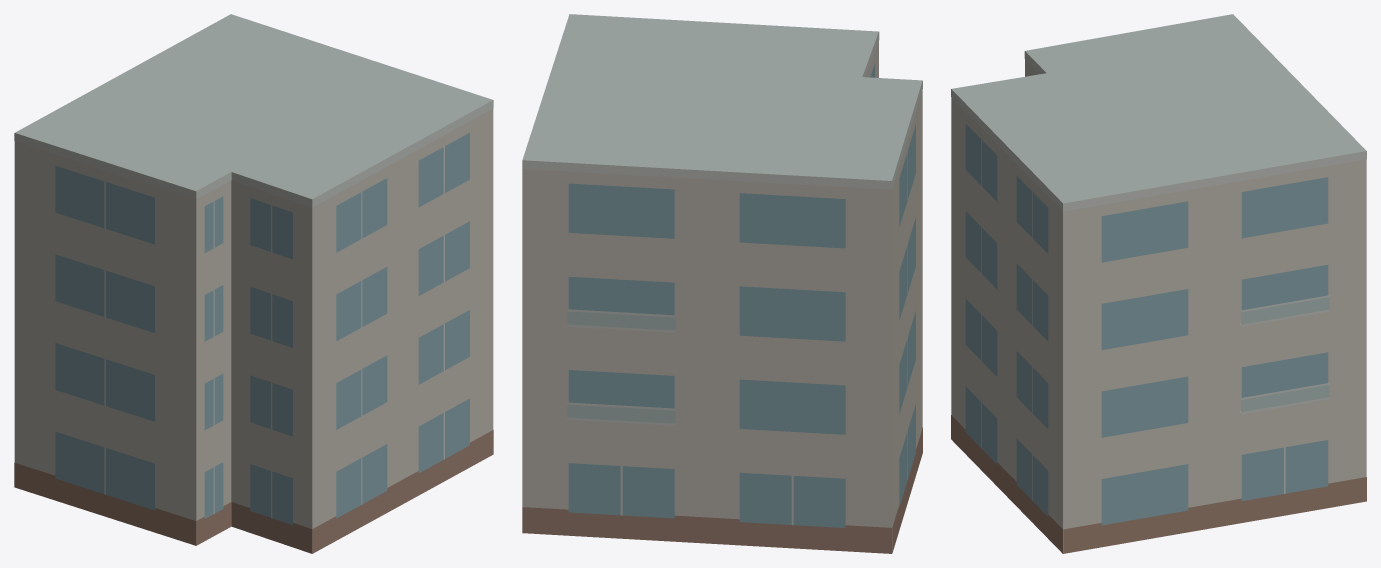
Rendered from survey-upis-32685008.glb.
The picture shows the model from 3 angles, left to right: view 1: azimuth 30°, elevation 25°; view 2: azimuth 150°, elevation 25°; view 3: azimuth 270°, elevation 25°; orthographic projection. The views are drawn at different scales.
Visible parts, largest first — view 1: survey-upis-32685008.tmp; view 2: survey-upis-32685008.tmp; view 3: survey-upis-32685008.tmp.
Part boxes in pixels (x1,y1,x2,y2): survey-upis-32685008.tmp: (14, 14, 493, 553); survey-upis-32685008.tmp: (522, 14, 922, 553); survey-upis-32685008.tmp: (951, 14, 1366, 553).
Size of the model in its own units: 12.07 by 10.4 by 11.19.
